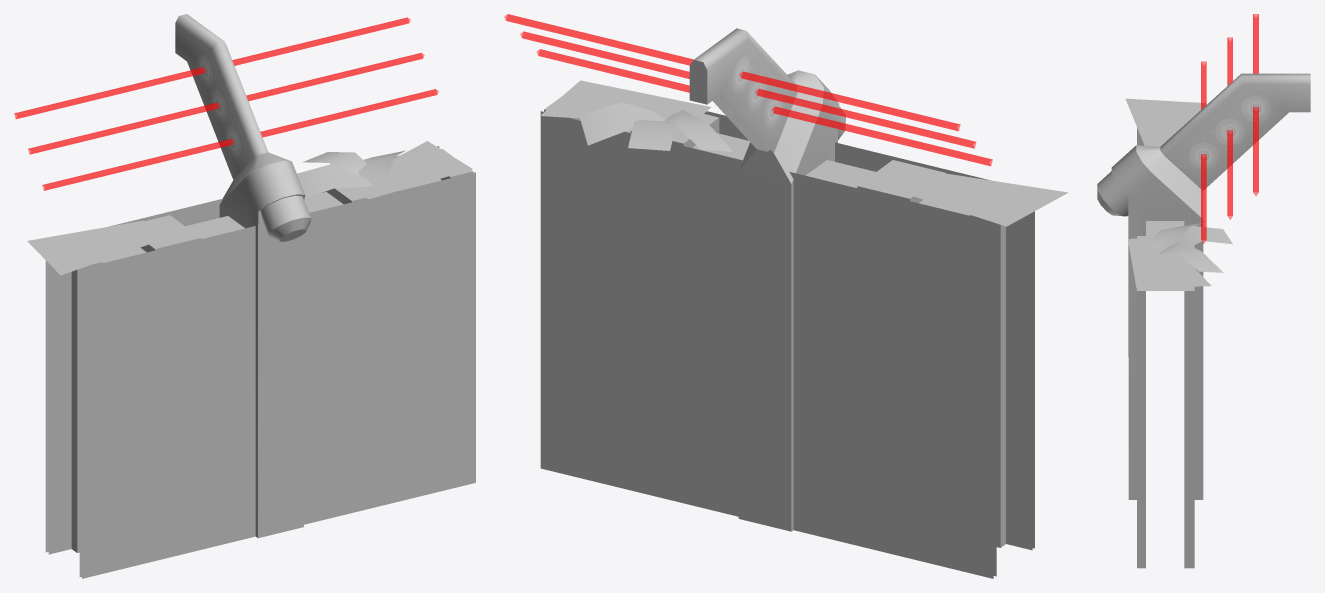
File: Exterior_Fence_Plants_3.fbx
3 views of the same model, side by side, from view 1: azimuth 30°, elevation 25°; view 2: azimuth 150°, elevation 25°; view 3: azimuth 270°, elevation 25° (orthographic). The views are drawn at different scales.
Parts seen in each view (by area): view 1: Exterior_Fence_Plants_3; view 2: Exterior_Fence_Plants_3; view 3: Exterior_Fence_Plants_3.
Part boxes in pixels (box(x1,y1,x2,y2)): Exterior_Fence_Plants_3: box(14, 14, 475, 578); Exterior_Fence_Plants_3: box(504, 14, 1068, 578); Exterior_Fence_Plants_3: box(1097, 14, 1310, 568).
Size of the model in its own units: 4.26 by 4.33 by 2.02.
